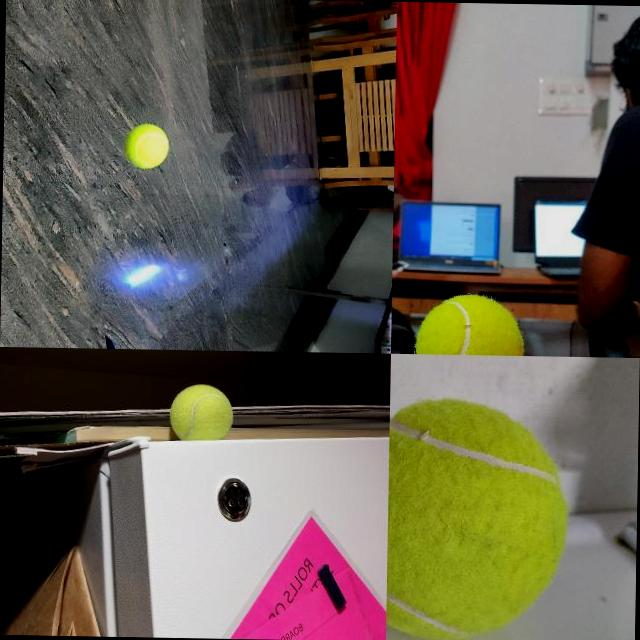Tennis Ball: (386, 396, 572, 640), (416, 294, 524, 354), (169, 382, 234, 438), (124, 122, 170, 170)
